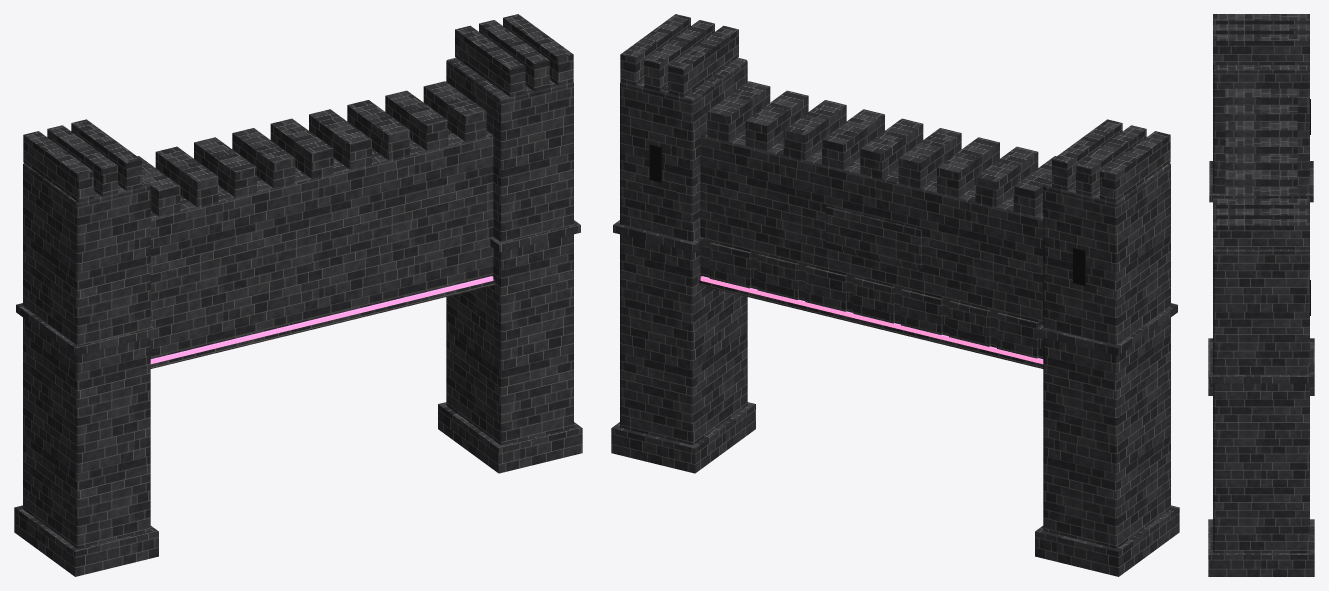
The model's file is SurGate.fbx.
The picture shows the model from 3 angles, left to right: view 1: azimuth 30°, elevation 25°; view 2: azimuth 150°, elevation 25°; view 3: azimuth 270°, elevation 25°; orthographic projection. The views are drawn at different scales.
Visible parts, largest first — view 1: SurGate; view 2: SurGate; view 3: SurGate.
Part boxes in pixels (box(x1,y1,x2,y2)): SurGate: box(14, 14, 582, 576); SurGate: box(611, 14, 1179, 576); SurGate: box(1208, 14, 1314, 576).
Size of the model in its own units: 10.6 by 7.95 by 2.2.
4 materials, 2 textured.
